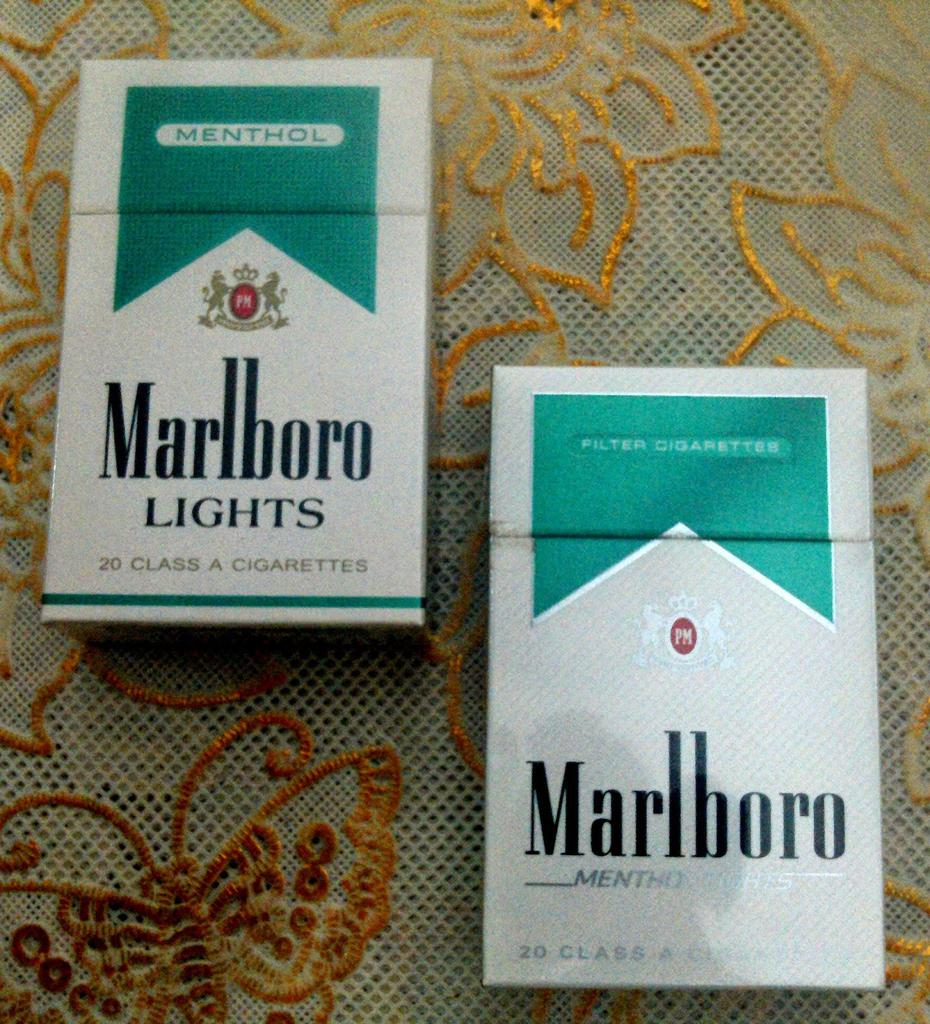marlboro_mentol: (495, 367, 872, 987), (72, 59, 418, 616)
